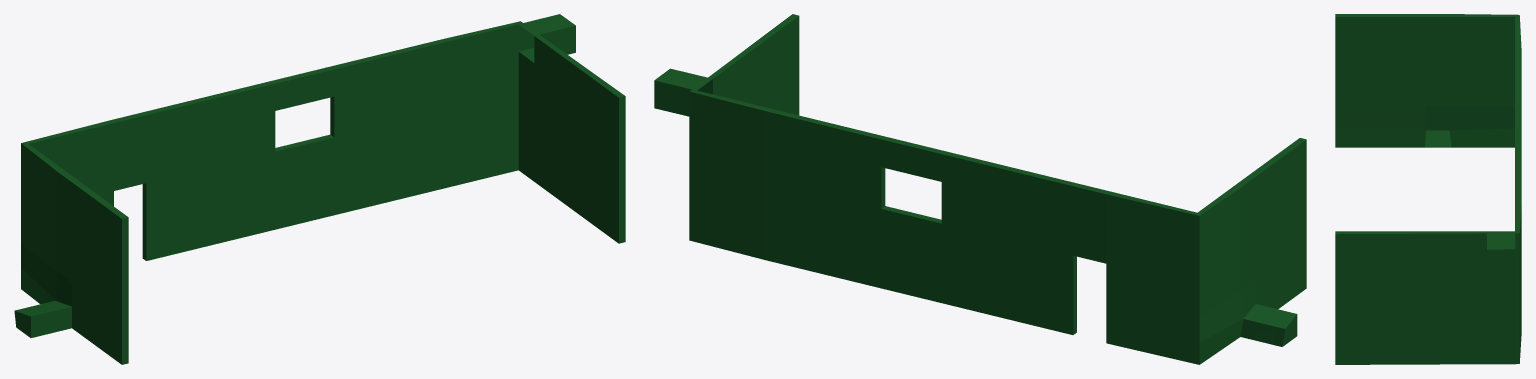
Rendered from makuuhuone seinät.fbx.
The picture shows the model from 3 angles, left to right: view 1: azimuth 30°, elevation 25°; view 2: azimuth 150°, elevation 25°; view 3: azimuth 270°, elevation 25°; orthographic projection. The views are drawn at different scales.
Parts seen in each view (by area): view 1: Cube.003; view 2: Cube.003; view 3: Cube.003.
Part boxes in pixels (x1,y1,x2,y2): Cube.003: [14, 14, 625, 364]; Cube.003: [654, 14, 1306, 364]; Cube.003: [1335, 14, 1521, 364].
Size of the model in its own units: 5229 by 1253 by 1621.
